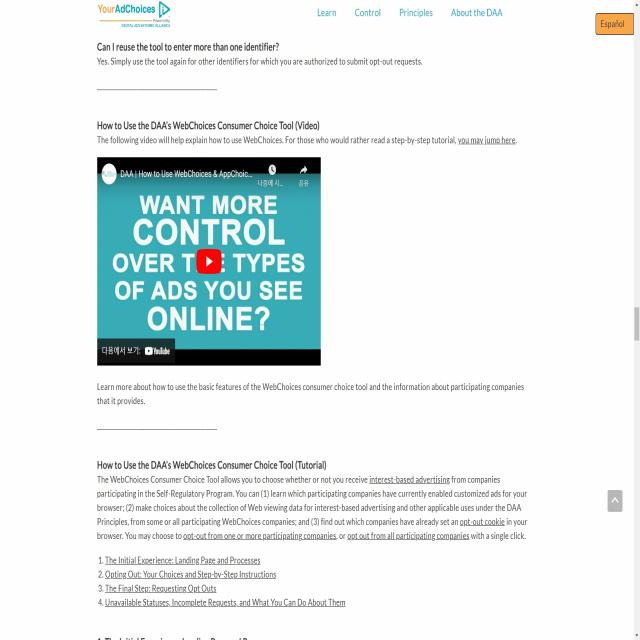menu-bar: (312, 2, 505, 24)
